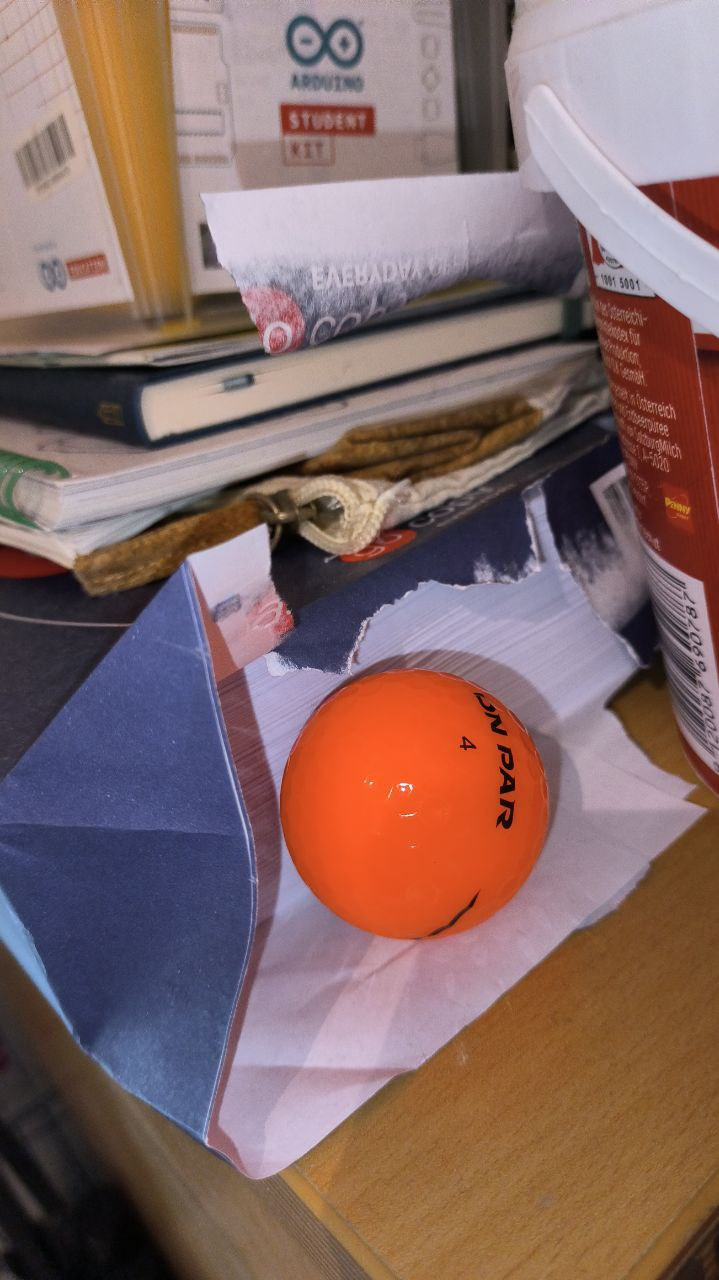orange_ball: (280, 666, 552, 942)
